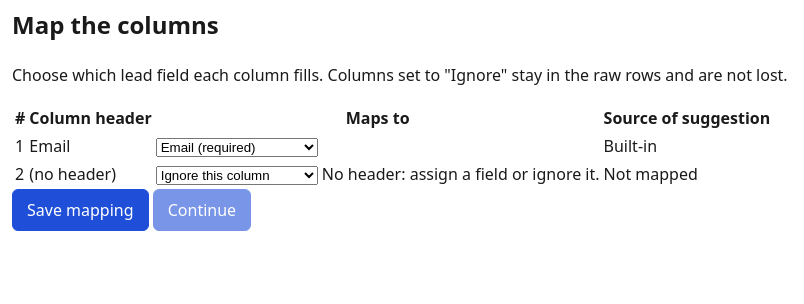
Scenario: MappingStep › same field on two columns: hint shown; server 422 message is displayed on save
Select "Email (required)" in the dropdown named "column 2: (no header)" at x=237, y=175, box 156,166 -> 318,185
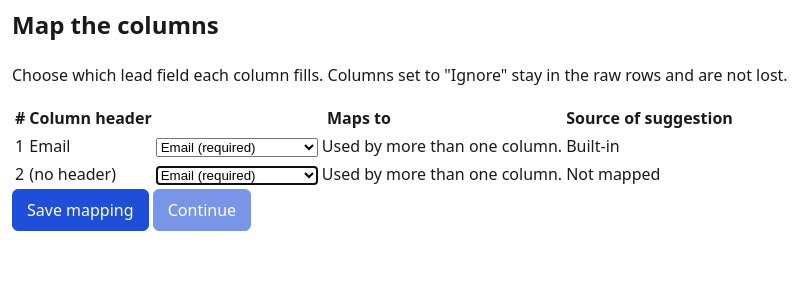
Now the text "Used by more than one column." is shown 2 times, box 318,135 -> 562,157; 318,163 -> 562,185
Click the button "Save mapping" at x=80, y=210, box 12,189 -> 148,231
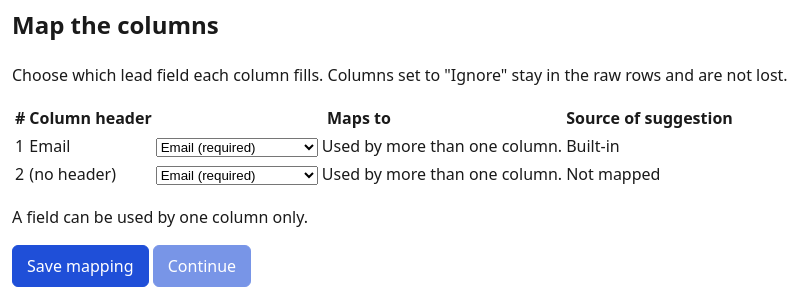
Now the message "A field can be used by one column only." is shown, box 12,206 -> 308,228
